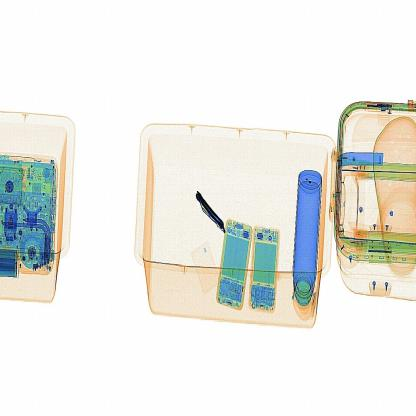knife: (195, 192, 226, 238)
